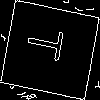T: (25, 25, 72, 64)
